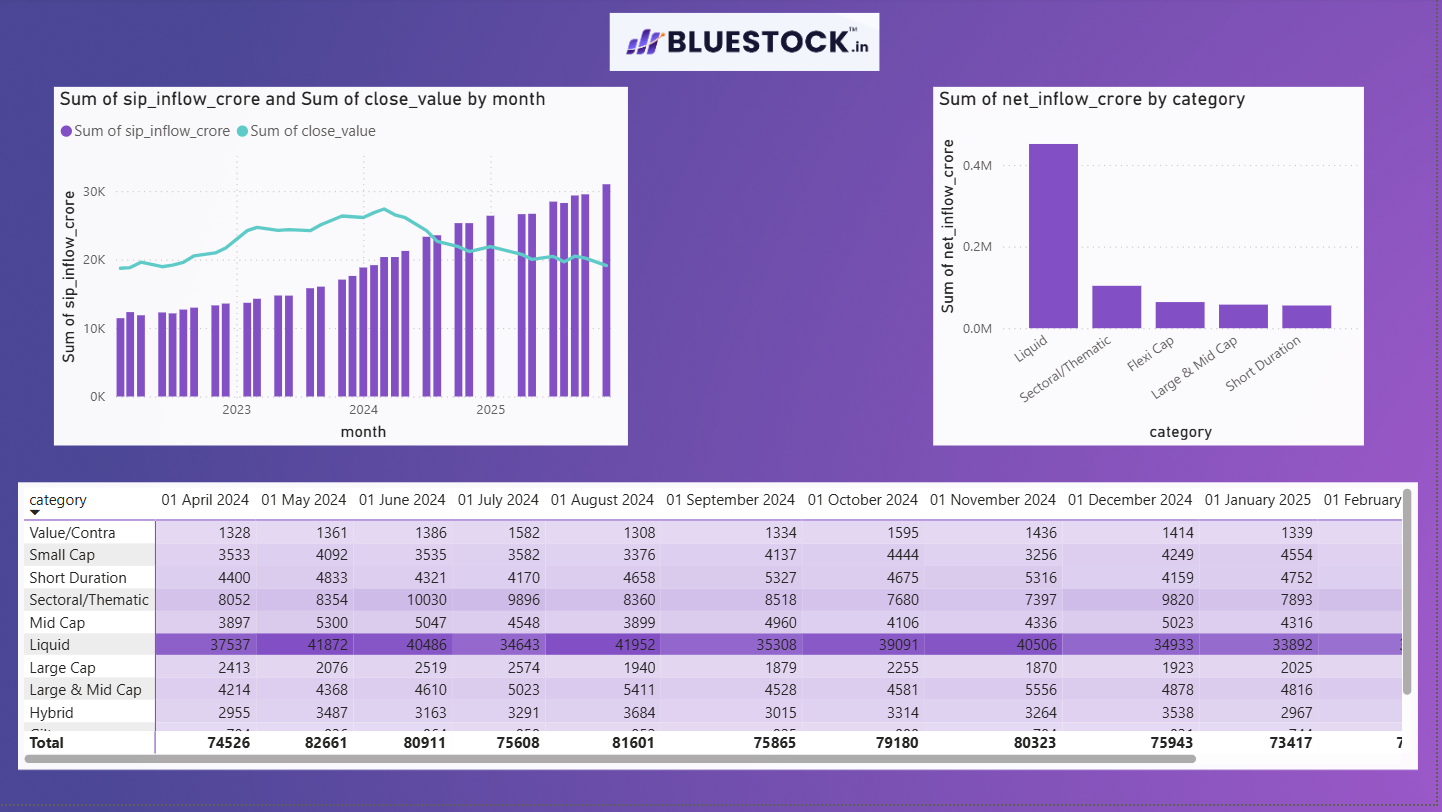

What the dashboard file says about the page in this screenshot:
{"tool":"powerbi","page":{"name":"Page 4 - SIP & Market Trends","canvas":[1280,720],"ordinal":3},"visuals":[{"type":"lineClusteredColumnComboChart","fields":{"Category":["04_monthly_sip_inflows.month.Variation.Date Hierarchy.Year"],"Y":["Sum(04_monthly_sip_inflows.sip_inflow_crore)"],"Y2":["Sum(10_benchmark_indices.close_value)"]},"box":[48,80,512,320],"z":0},{"type":"pivotTable","fields":{"Rows":["05_category_inflows.category"],"Values":["Sum(05_category_inflows.net_inflow_crore)"],"Columns":["05_category_inflows.month"]},"box":[16,432,1248,256],"z":1000},{"type":"clusteredColumnChart","fields":{"Category":["05_category_inflows.category"],"Y":["Sum(05_category_inflows.net_inflow_crore)"]},"box":[832,80,384,320],"z":2000},{"type":"image","box":[544,0,240,80],"z":2001}]}

Visuals, with their boxes in screenshot pixels (x1, y1, x2, y2), scaled from the page's 1280x720 canvas onto the 1442x812 screenshot:
lineClusteredColumnComboChart - 04_monthly_sip_inflows.month.Variation.Date Hierarchy.Year x Sum(04_monthly_sip_inflows.sip_inflow_crore): bbox=[54, 90, 631, 451]
pivotTable - 05_category_inflows.category x Sum(05_category_inflows.net_inflow_crore): bbox=[18, 487, 1424, 776]
clusteredColumnChart - 05_category_inflows.category x Sum(05_category_inflows.net_inflow_crore): bbox=[937, 90, 1370, 451]
image: bbox=[613, 0, 883, 90]
